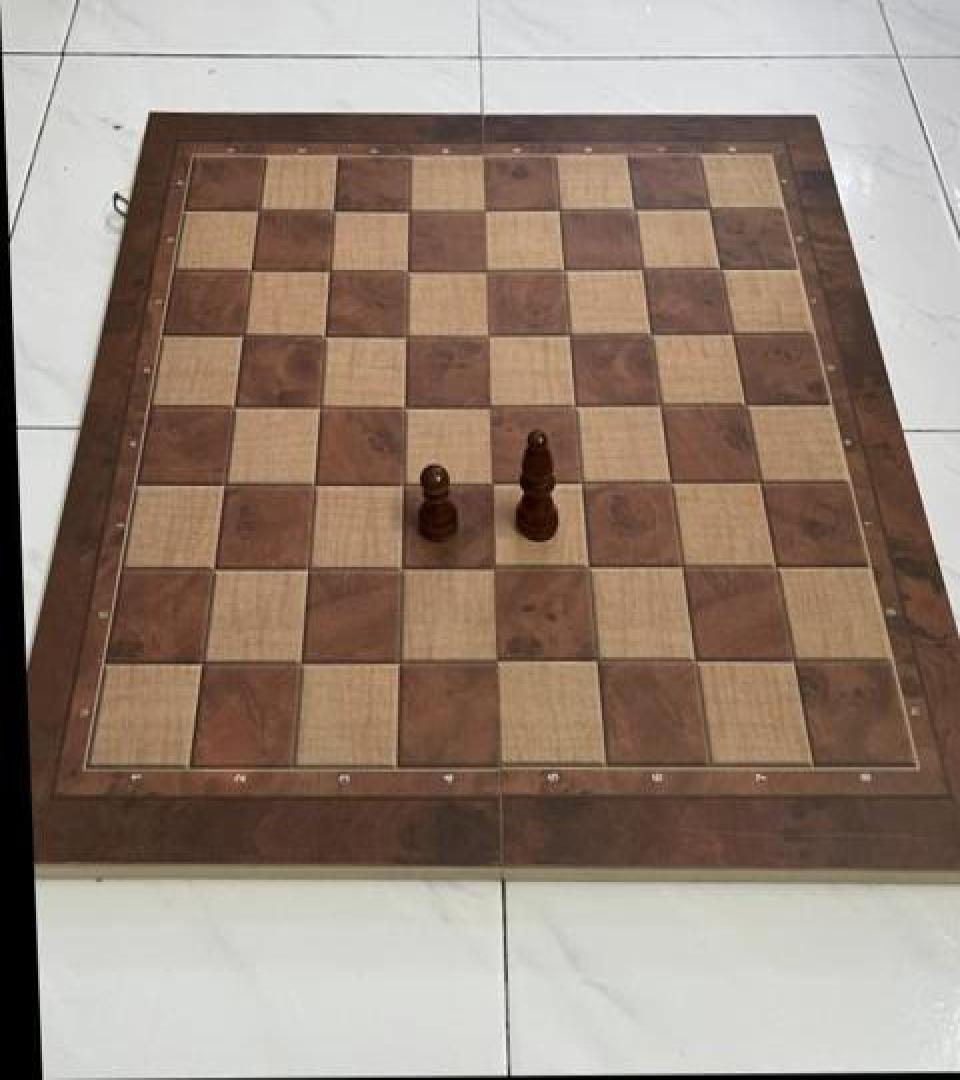xcorner: (694, 190, 728, 228), (618, 190, 652, 228), (542, 190, 576, 228), (467, 190, 501, 228), (391, 190, 425, 228), (315, 190, 349, 228), (239, 190, 273, 228), (704, 251, 738, 289), (626, 251, 660, 289), (547, 251, 581, 289), (468, 251, 502, 289), (389, 251, 423, 289), (310, 251, 344, 289), (231, 251, 265, 289), (716, 316, 750, 354), (634, 316, 668, 354), (552, 316, 586, 354), (470, 316, 504, 354), (387, 316, 421, 354), (305, 316, 339, 354), (223, 316, 257, 354), (729, 387, 763, 425), (643, 387, 677, 425), (557, 387, 591, 425), (471, 387, 505, 425), (386, 387, 420, 425), (300, 387, 334, 425), (214, 387, 248, 425), (742, 465, 776, 503), (653, 465, 687, 503), (563, 465, 597, 503), (473, 465, 507, 503), (383, 465, 417, 503), (294, 465, 328, 503), (204, 466, 238, 504), (758, 550, 792, 588), (664, 550, 698, 588), (570, 550, 604, 588), (475, 550, 509, 588), (381, 550, 415, 588), (287, 550, 321, 588), (193, 550, 227, 588), (774, 644, 808, 682), (676, 644, 710, 682), (577, 644, 611, 682), (478, 645, 512, 683), (379, 645, 413, 683), (280, 645, 314, 683), (180, 645, 214, 683)
